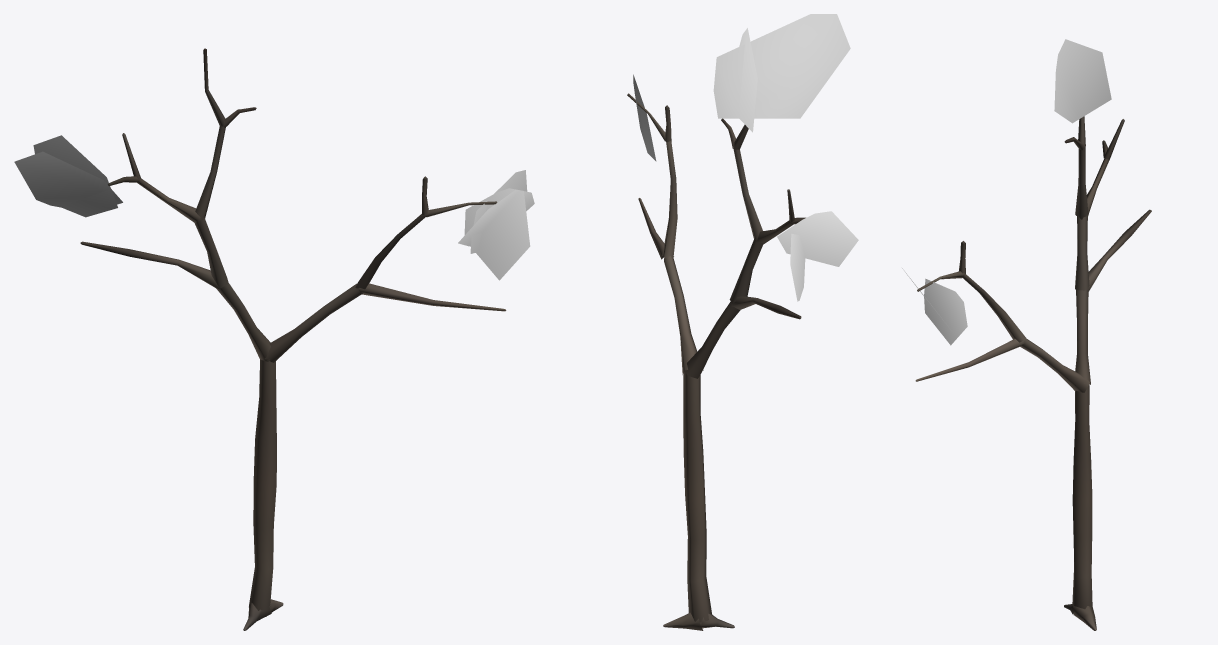
File: sapling_2.glb
3 renders of one model, left to right at view 1: azimuth 30°, elevation 25°; view 2: azimuth 150°, elevation 25°; view 3: azimuth 270°, elevation 25°, orthographic. The views are drawn at different scales.
Visible parts, largest first — view 1: sapling_2; view 2: sapling_2; view 3: sapling_2.
Boxes of the visible parts, x1=… form: sapling_2: x1=14, y1=48, x2=534, y2=630; sapling_2: x1=627, y1=14, x2=858, y2=630; sapling_2: x1=902, y1=39, x2=1151, y2=630.
Bounding box in the file's own units: 1.43 × 2.18 × 1.1.
